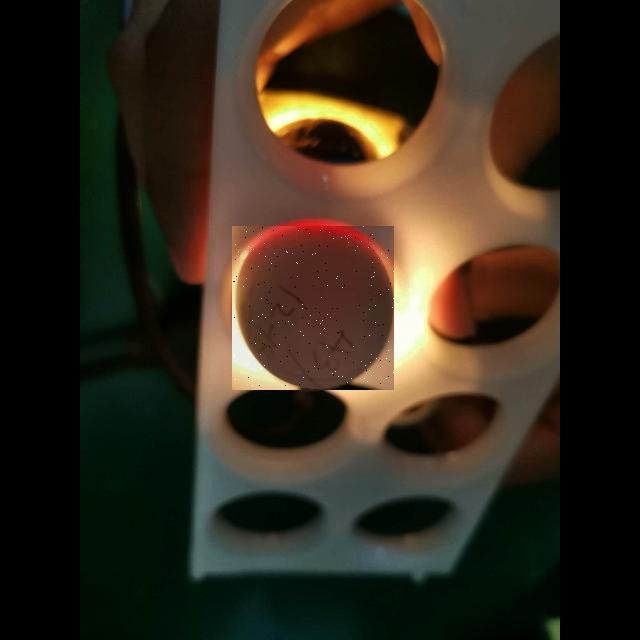A - Good: (229, 221, 398, 393)
